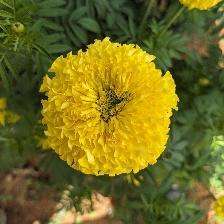marigold: (39, 41, 182, 180)
